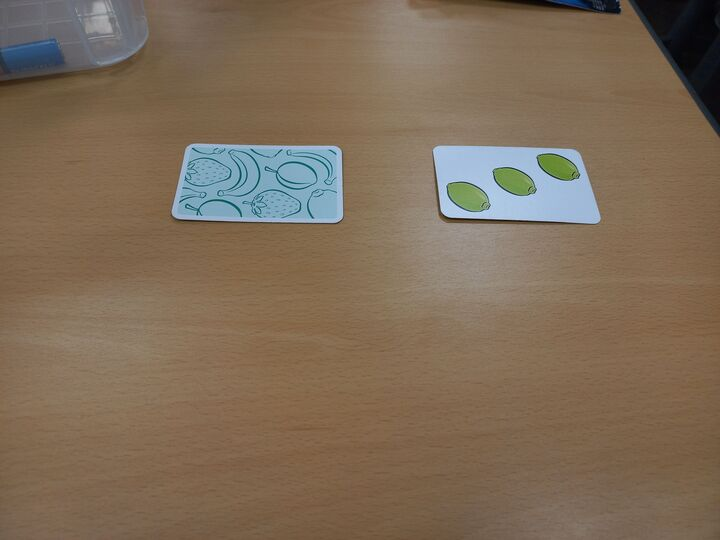lime3: (430, 143, 604, 227)
